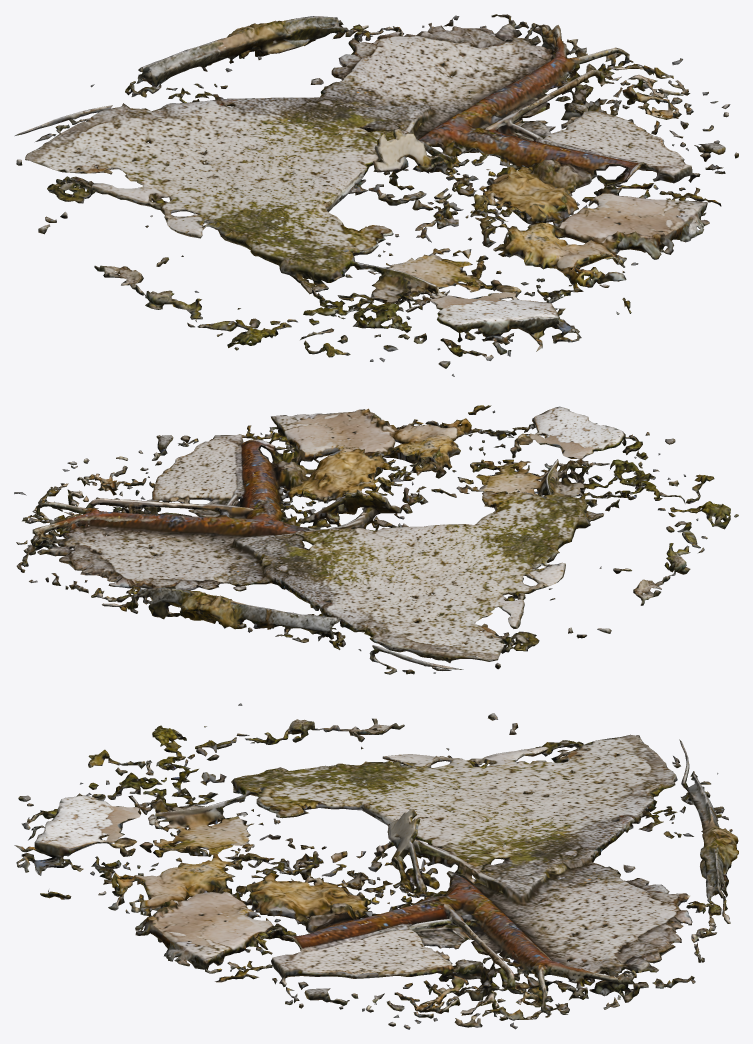
Rendered from DebrisPile.fbx.
3 views of the same model, one above another, from view 1: azimuth 30°, elevation 25°; view 2: azimuth 150°, elevation 25°; view 3: azimuth 270°, elevation 25° (orthographic). The views are drawn at different scales.
Parts seen in each view (by area): view 1: texture_mapping; view 2: texture_mapping; view 3: texture_mapping.
Part boxes in pixels (<box>): texture_mapping: <box>15,14,738,376</box>; texture_mapping: <box>14,405,738,674</box>; texture_mapping: <box>14,703,738,1029</box>.
Bounding box in the file's own units: 0.9866 × 0.9541 × 0.1162.
Materials: 1 (1 with a texture image).
